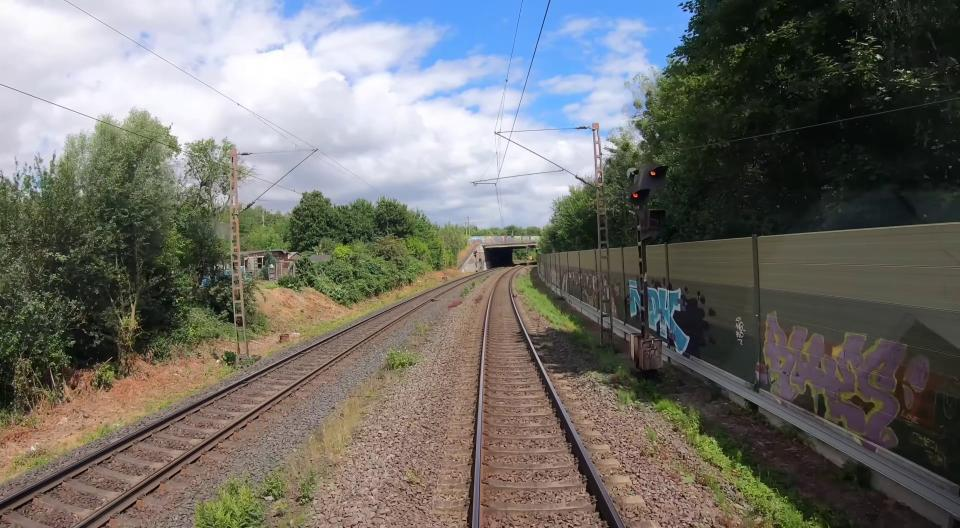Plant: (516, 271, 861, 528), (194, 350, 418, 528), (663, 452, 747, 528), (408, 320, 434, 348), (460, 275, 489, 300), (406, 471, 421, 484), (646, 429, 658, 442), (448, 299, 462, 308)
